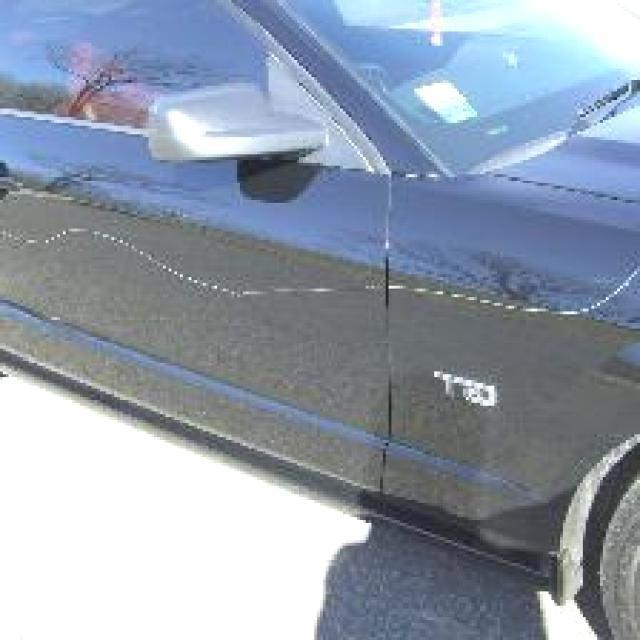minor: (389, 267, 640, 320), (0, 223, 201, 272), (276, 279, 384, 302), (170, 273, 258, 301)
